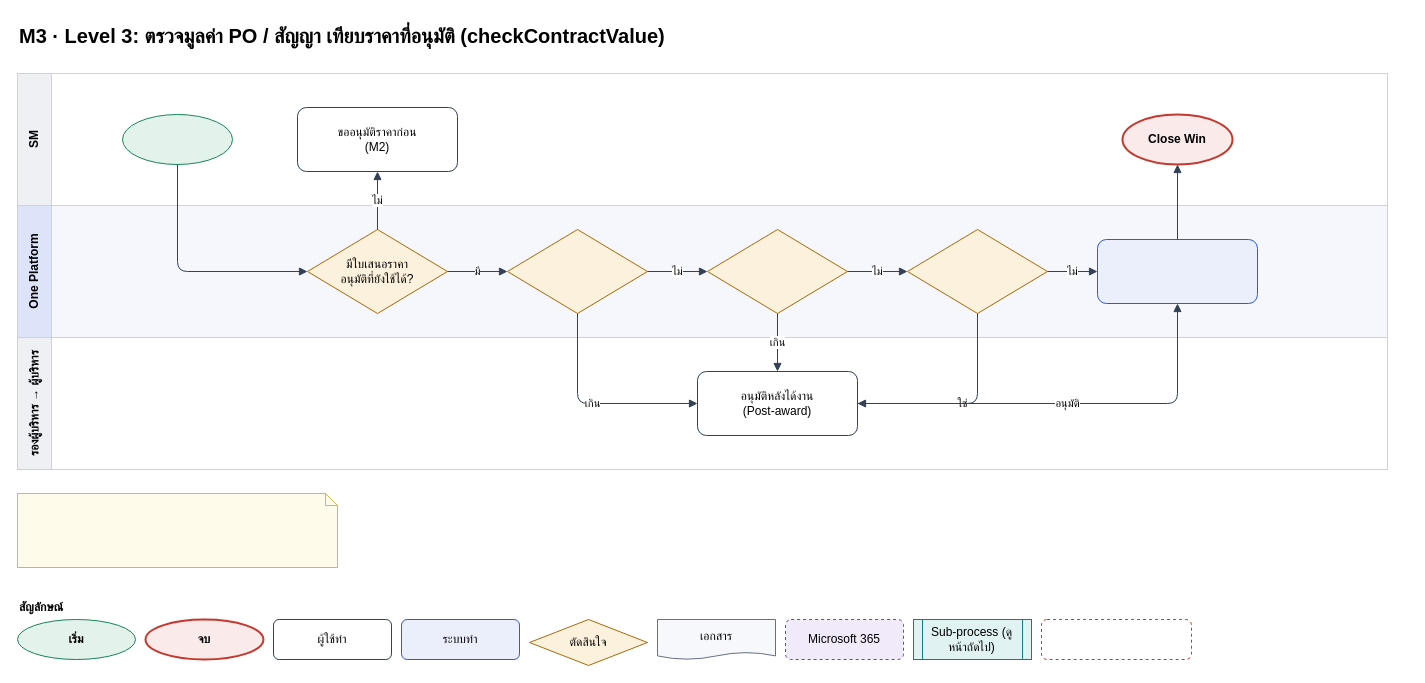
This 1425x683 diagram has some shape labels left out. The box of each missing label's shape, as (x1, y1, x2, y2) in pixels:
GP ลดลง เกิน 3 จุด?: (706, 228, 848, 314)
To-be (ยังไม่มีในระบบ): (1040, 618, 1192, 660)
กรอกมูลค่าสัญญา: (122, 114, 232, 164)
ต่างจากราคาอนุมัติ เกิน ±2%?: (506, 228, 648, 314)
ผ่าน → Close Win: (1096, 238, 1258, 304)
ภาครัฐ: ราคายื่น e-GP สูงกว่าที่อนุมัติ?: (906, 228, 1048, 314)
เกณฑ์ ±2% และ GP 3 จุด ตั้งค่าได้ใน System Settings: (16, 492, 338, 568)
